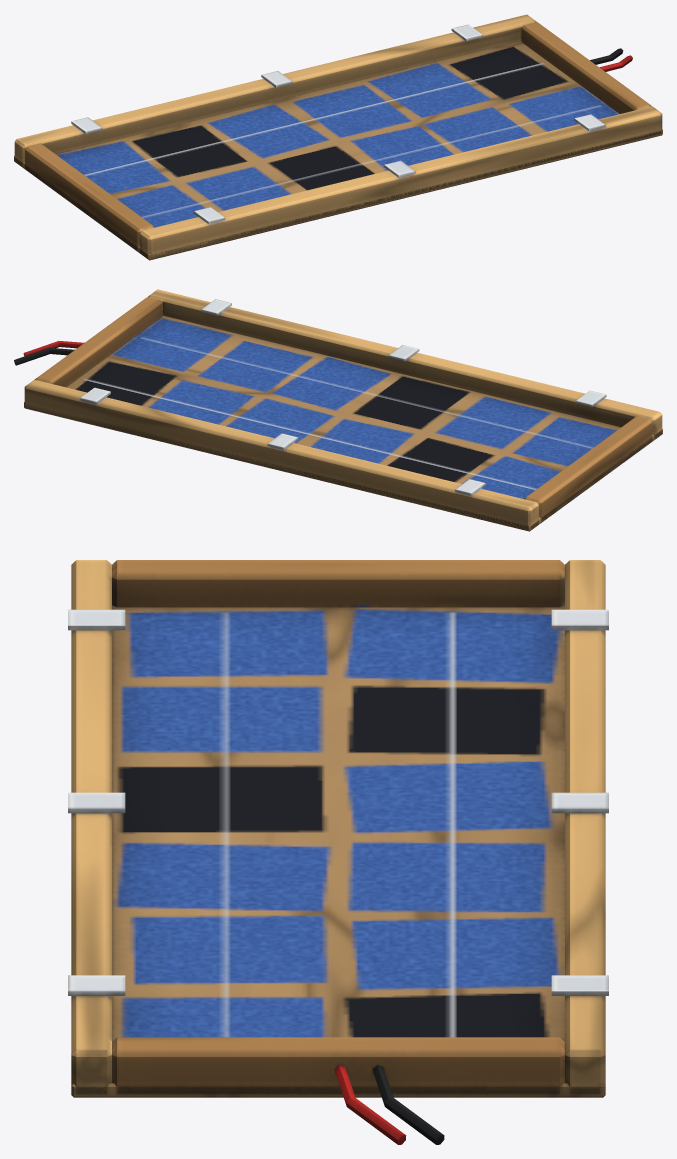
Rendered from RenewableEnergy_HomemadeSolarModule.fbx.
3 views of the same model, one above another, from view 1: azimuth 30°, elevation 25°; view 2: azimuth 150°, elevation 25°; view 3: azimuth 270°, elevation 25° (orthographic). The views are drawn at different scales.
Visible parts, largest first — view 1: HomemadeSolarModule; view 2: HomemadeSolarModule; view 3: HomemadeSolarModule.
Part boxes in pixels (x1,y1,x2,y2): HomemadeSolarModule: [14, 14, 662, 260]; HomemadeSolarModule: [14, 289, 662, 531]; HomemadeSolarModule: [68, 560, 608, 1144].
Size of the model in its own units: 1.01 by 0.044 by 0.425.
